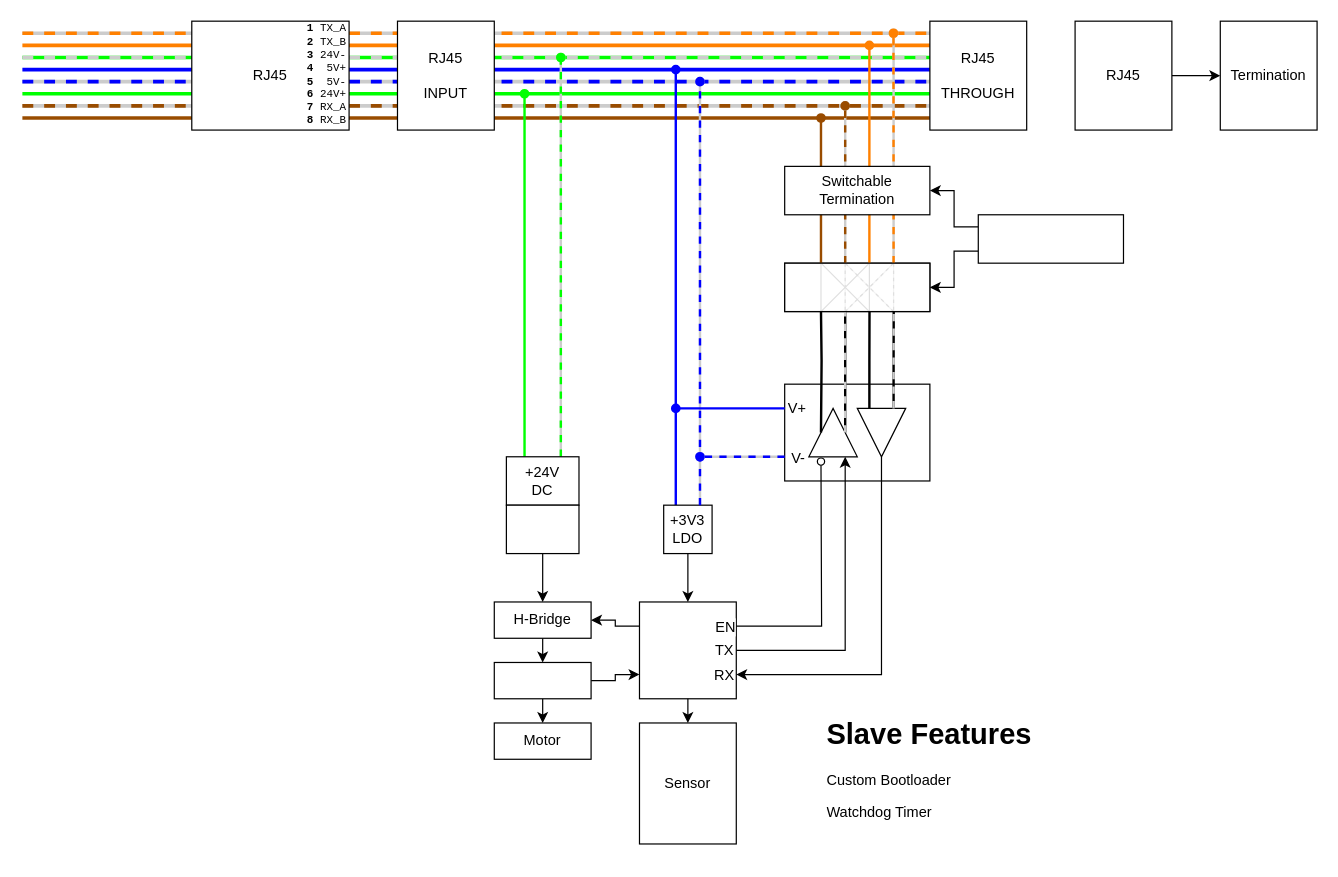
Image size: 1338x877. Some labels were removed from this diagram. Here are the shapes that lost their labels. From the top down, the centre of each, then its label:
[1050,238]: Jumper Defaults
[856,287]: Master/Slave MUX
[542,529]: +12V DC
[687,650]: uC
[542,680]: Sense
